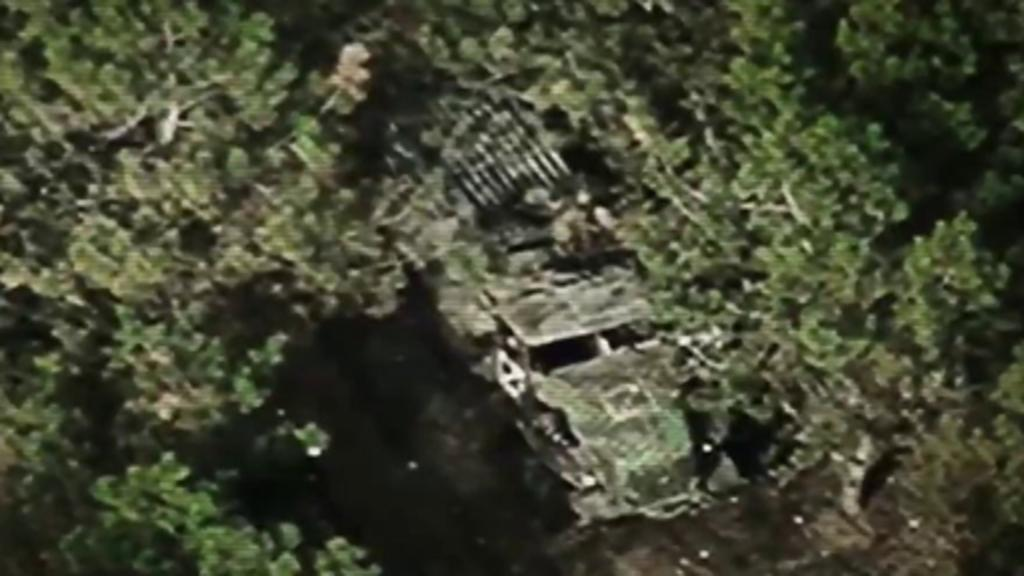MLRS: (328, 43, 752, 523)
